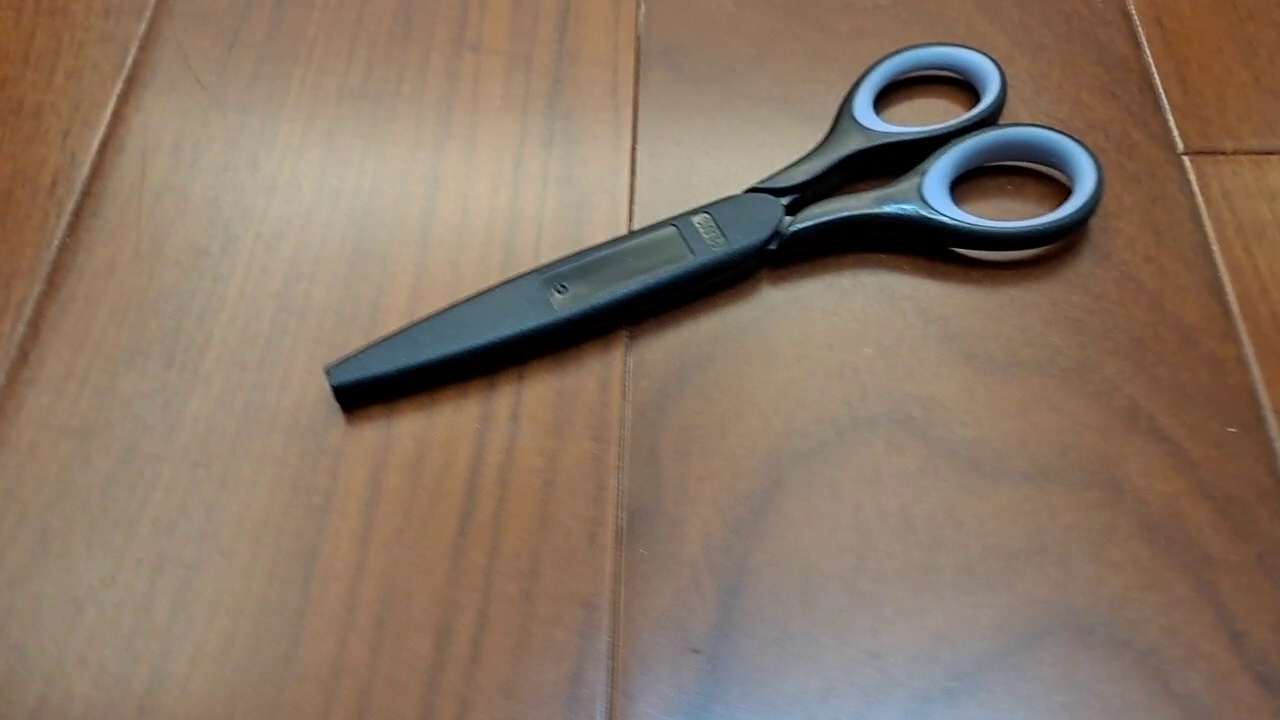scissors: (321, 40, 1106, 418)
